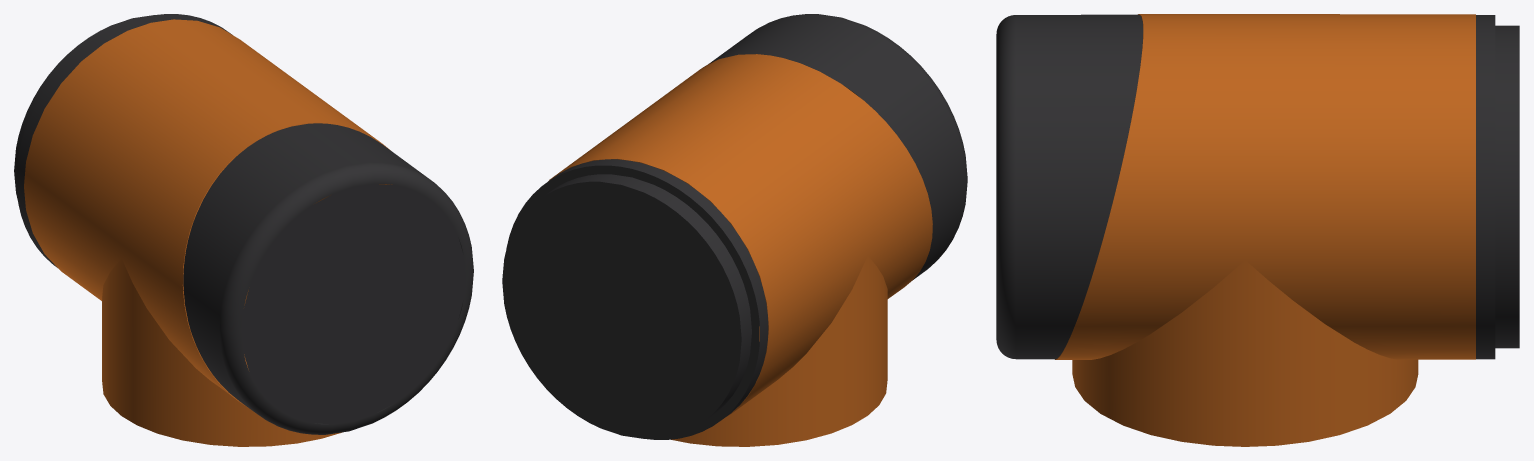
3 views of the same model, side by side, from view 1: azimuth 30°, elevation 25°; view 2: azimuth 150°, elevation 25°; view 3: azimuth 270°, elevation 25° (orthographic). The views are drawn at different scales.
Visible parts, largest first — view 1: NONE-DC_Shell, NONE-DC_Shell_ncl1_2, NONE-DC_Shell_ncl1_1; view 2: NONE-DC_Shell_ncl1_2, NONE-DC_Shell_ncl1_1, NONE-DC_Shell; view 3: NONE-DC_Shell_ncl1_2, NONE-DC_Shell, NONE-DC_Shell_ncl1_1.
Boxes of the visible parts, x1,y1,x2,y2 form: NONE-DC_Shell: (183, 123, 473, 434); NONE-DC_Shell_ncl1_2: (24, 19, 392, 446); NONE-DC_Shell_ncl1_1: (14, 14, 231, 267); NONE-DC_Shell_ncl1_2: (548, 54, 932, 446); NONE-DC_Shell_ncl1_1: (502, 159, 768, 439); NONE-DC_Shell: (710, 14, 967, 279); NONE-DC_Shell_ncl1_2: (1055, 14, 1475, 446); NONE-DC_Shell: (996, 14, 1143, 359); NONE-DC_Shell_ncl1_1: (1476, 15, 1519, 359).
Bounding box in the file's own units: 0.089 × 0.1345 × 0.0975.
